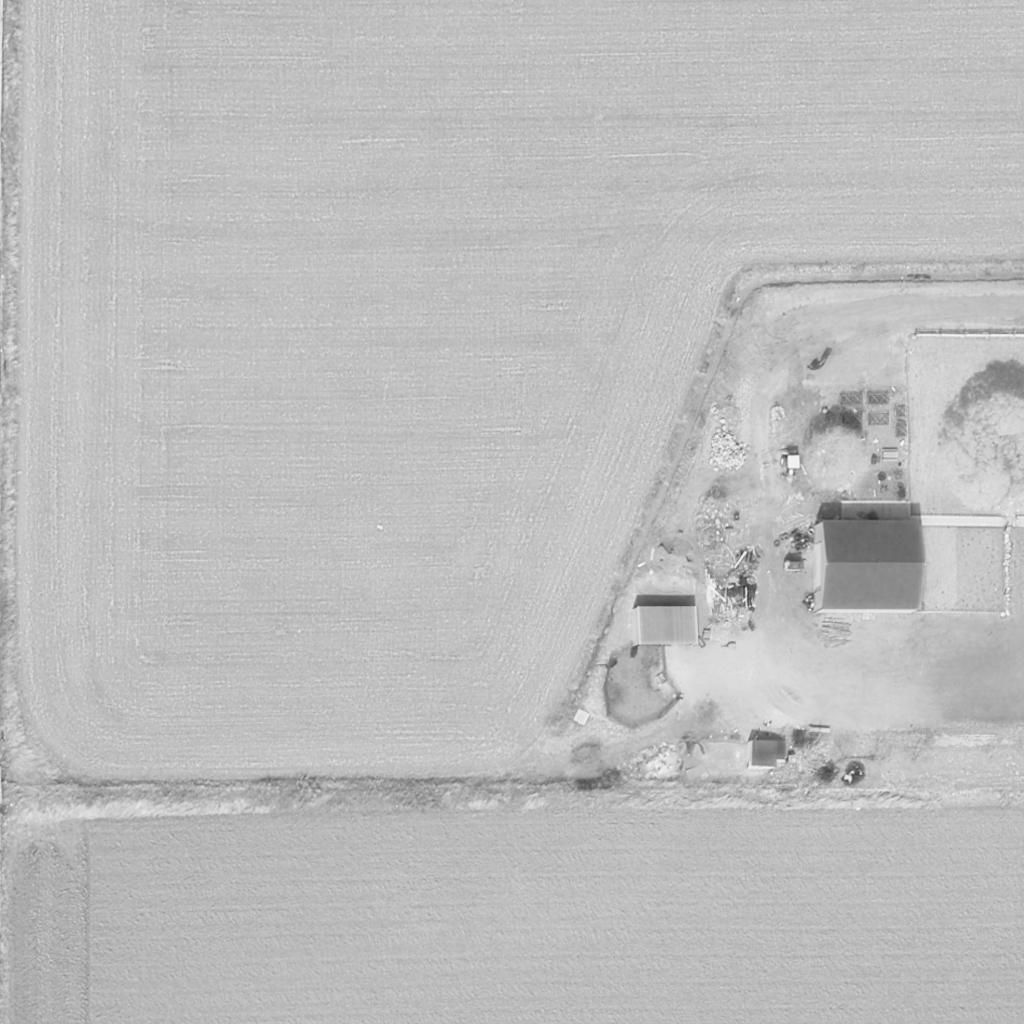vehicle: (778, 453, 804, 485)
